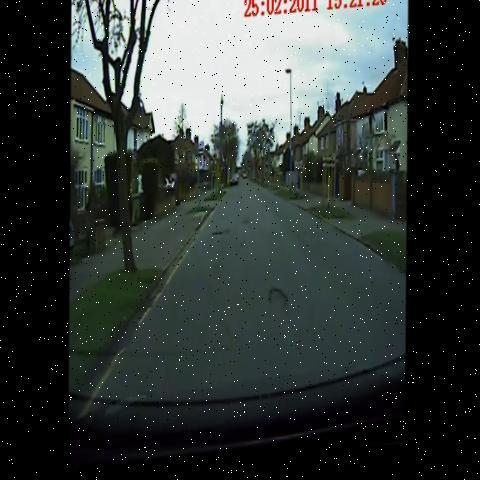pothole: (263, 282, 290, 332), (207, 220, 234, 250), (237, 214, 251, 233)
